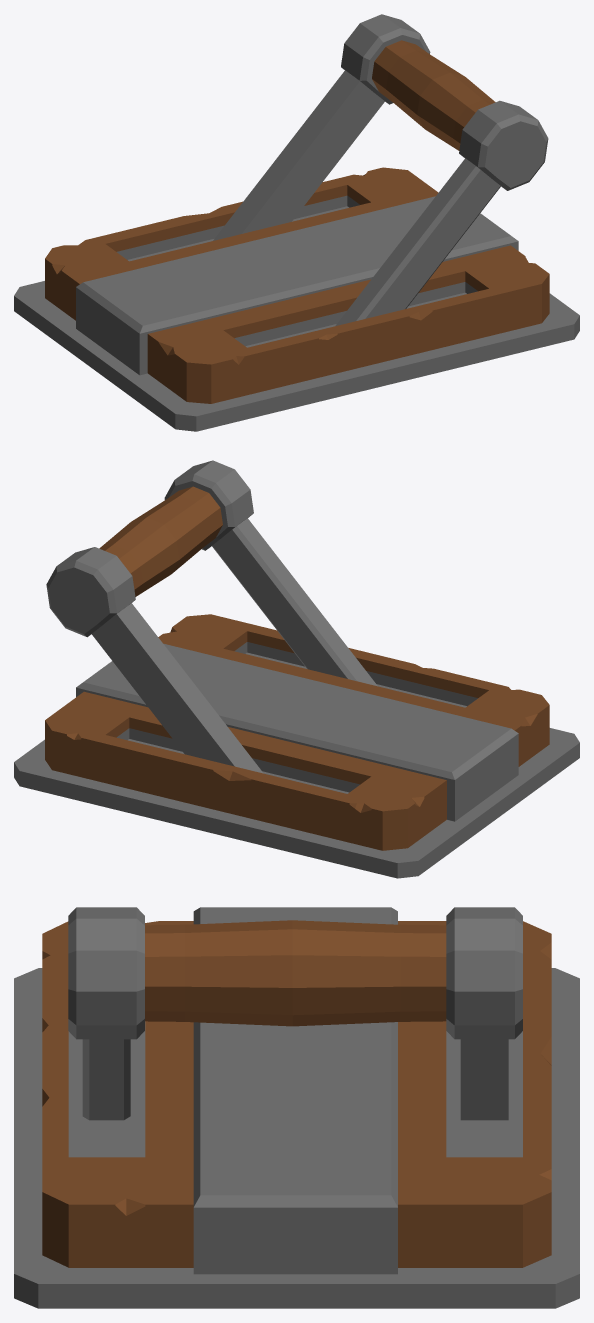
The model's file is lever2.fbx.
3 renders of one model, top to bottom at view 1: azimuth 30°, elevation 25°; view 2: azimuth 150°, elevation 25°; view 3: azimuth 270°, elevation 25°, orthographic. The views are drawn at different scales.
Parts seen in each view (by area): view 1: Cylinder; view 2: Cylinder; view 3: Cylinder.
Part boxes in pixels (x1,y1,x2,y2): Cylinder: [14, 14, 579, 431]; Cylinder: [14, 460, 579, 878]; Cylinder: [14, 907, 579, 1308].
Size of the model in its own units: 164 by 85.31 by 124.
